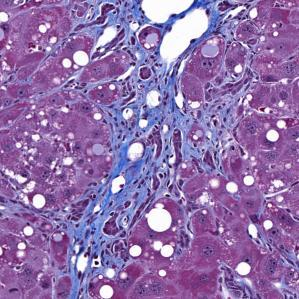fibrosis: (103, 61, 234, 160), (62, 169, 179, 260)
